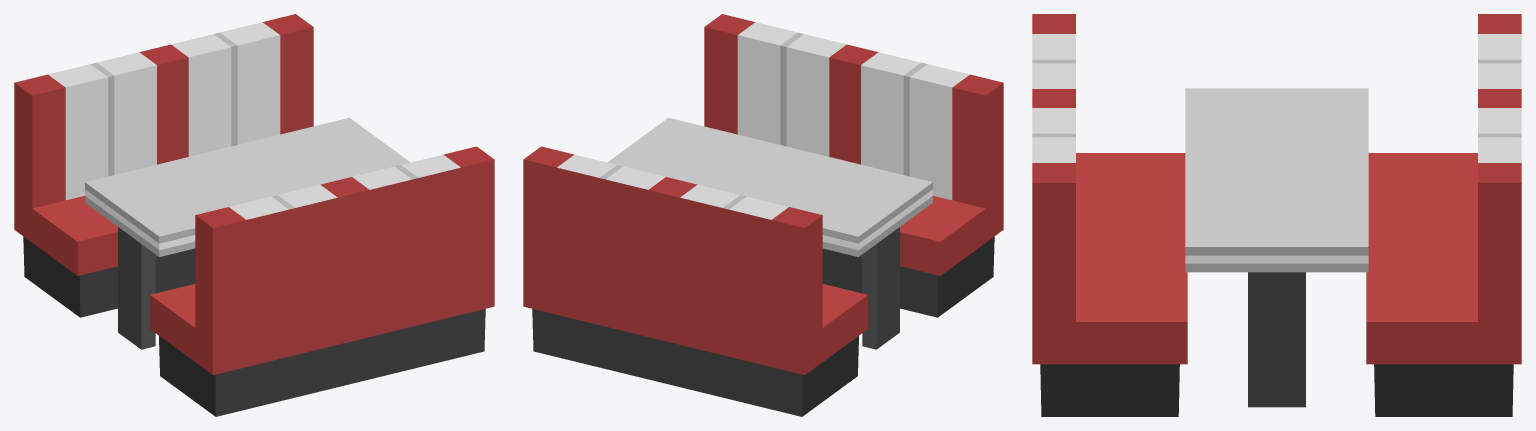
Rendered from ChairTables.glb.
3 views of the same model, side by side, from view 1: azimuth 30°, elevation 25°; view 2: azimuth 150°, elevation 25°; view 3: azimuth 270°, elevation 25° (orthographic). The views are drawn at different scales.
Parts seen in each view (by area): view 1: SI_Prop_ChairTables_01; view 2: SI_Prop_ChairTables_01; view 3: SI_Prop_ChairTables_01.
Part boxes in pixels (x1,y1,x2,y2): SI_Prop_ChairTables_01: [14, 14, 494, 416]; SI_Prop_ChairTables_01: [523, 14, 1003, 416]; SI_Prop_ChairTables_01: [1032, 14, 1521, 416].
Size of the model in its own units: 0.0321 by 0.0211 by 0.0393.
1 material, 1 textured.
